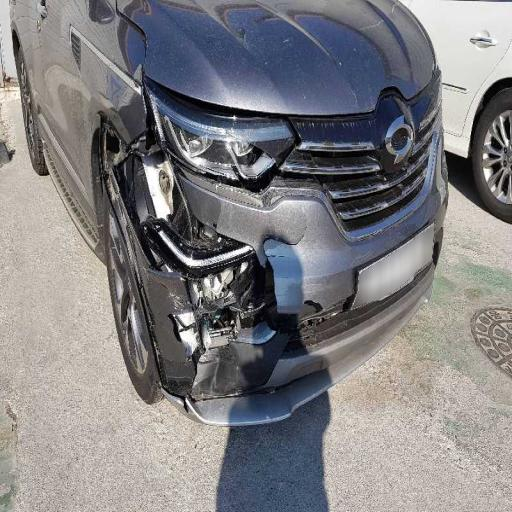broken: (94, 25, 296, 434)
scratch: (321, 12, 405, 54)
